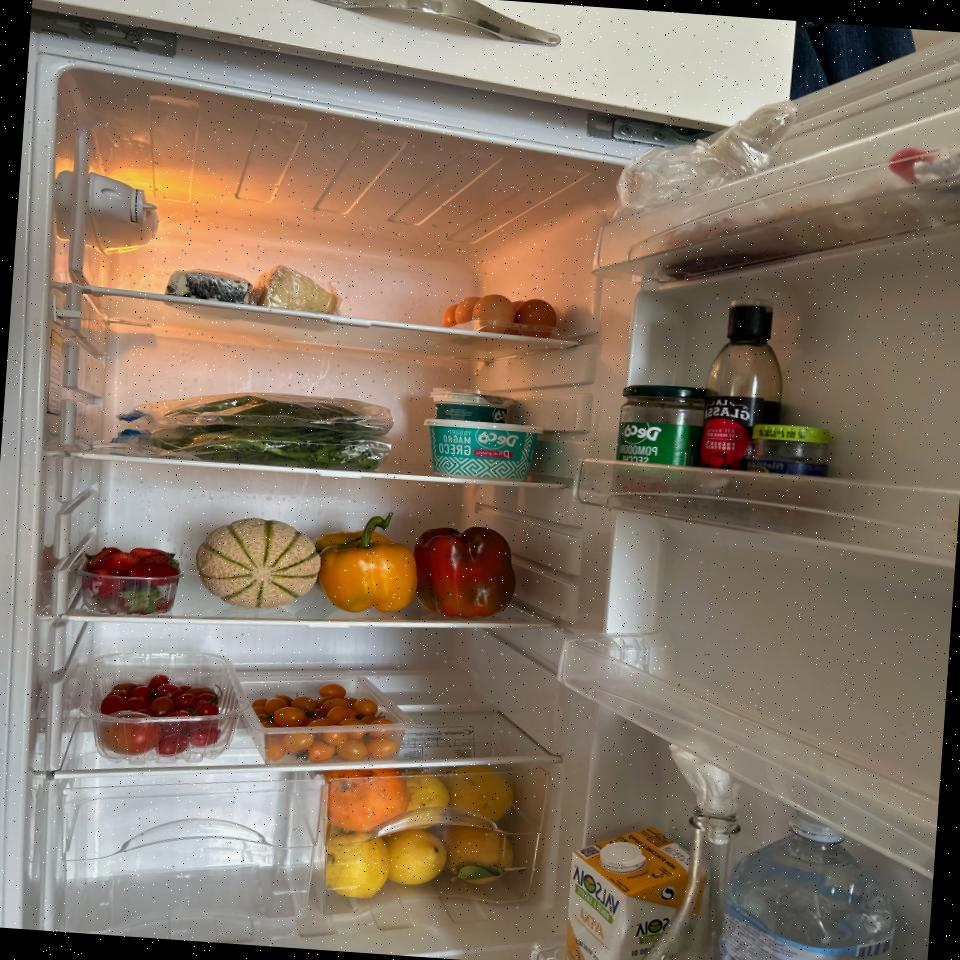Huevos: (443, 292, 560, 337)
Limón: (322, 827, 392, 900), (445, 825, 518, 887), (386, 826, 448, 888), (448, 766, 515, 822), (401, 771, 448, 827)
Queso: (248, 263, 344, 314), (164, 267, 253, 304)
Tomate: (246, 679, 404, 770), (98, 670, 226, 760), (99, 709, 162, 756)
Yogur: (422, 418, 542, 484)
bell pepper: (312, 510, 420, 614), (410, 522, 518, 622)
orange: (317, 766, 408, 831)
strawberries: (82, 542, 182, 620)
